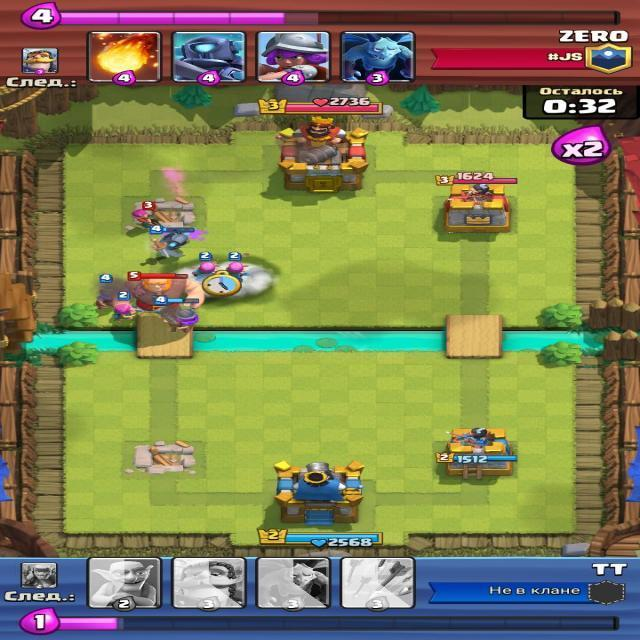EArcher: (136, 211, 157, 225)
EGiant: (129, 273, 194, 312)
EKingTower: (260, 99, 385, 190)
EnemyPrincessTower: (435, 172, 518, 234)
OArcher: (194, 258, 218, 283), (224, 262, 249, 286), (110, 304, 137, 324)
OMiniPekka: (156, 237, 187, 254)
OMusk: (165, 311, 206, 335)
OwnKingTower: (266, 464, 380, 550)
OwnPrincessTower: (435, 427, 520, 482)
TowerDown: (120, 438, 204, 479), (119, 195, 204, 234)
